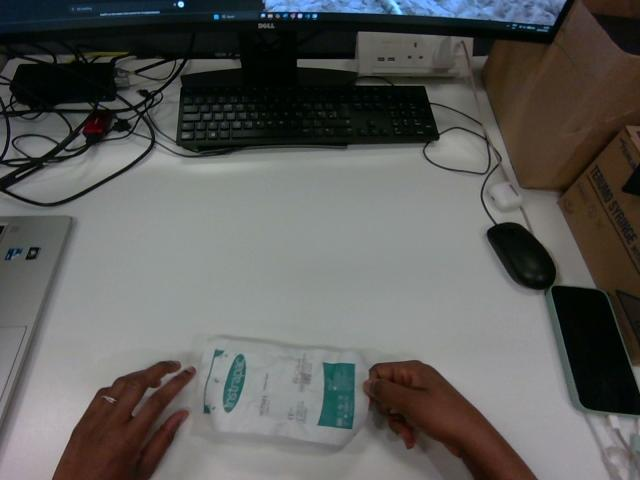gallipot: (199, 337, 367, 445)
